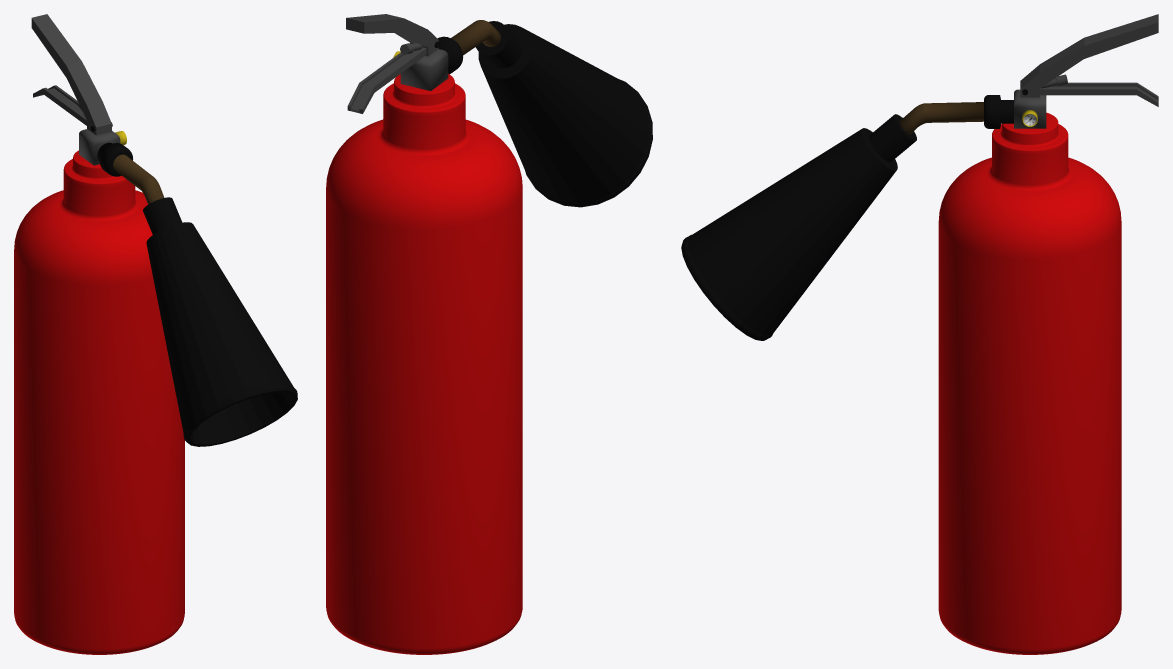
Rendered from fire_ex.obj.
3 renders of one model, left to right at view 1: azimuth 30°, elevation 25°; view 2: azimuth 150°, elevation 25°; view 3: azimuth 270°, elevation 25°, orthographic. The views are drawn at different scales.
Parts seen in each view (by area): view 1: body, dulo, handles, soplo, Cube; view 2: body, dulo, handles, soplo, Cube; view 3: body, dulo, handles, soplo, Cube.
Part boxes in pixels (left/top/right/bottom): body: left=14, top=150, right=184, bottom=654; dulo: left=143, top=197, right=297, bottom=446; handles: left=31, top=14, right=111, bottom=135; soplo: left=97, top=142, right=164, bottom=204; Cube: left=79, top=129, right=120, bottom=165; body: left=326, top=74, right=522, bottom=654; dulo: left=475, top=21, right=652, bottom=207; handles: left=346, top=14, right=438, bottom=113; soplo: left=437, top=20, right=500, bottom=74; Cube: left=400, top=49, right=448, bottom=91; body: left=938, top=112, right=1121, bottom=654; dulo: left=681, top=114, right=916, bottom=340; handles: left=1020, top=14, right=1158, bottom=106; soplo: left=899, top=95, right=1013, bottom=134; Cube: left=1014, top=89, right=1046, bottom=128.
Size of the model in its own units: 2 by 7.27 by 5.23.
